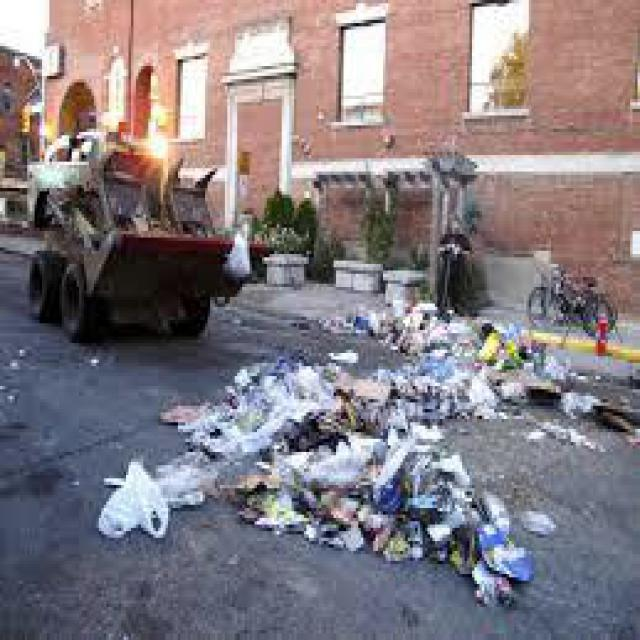garbage: (136, 343, 541, 610), (312, 280, 638, 452)
